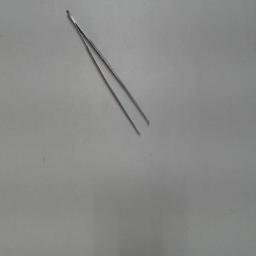Gillies Toothed Dissector: (60, 2, 154, 144)
